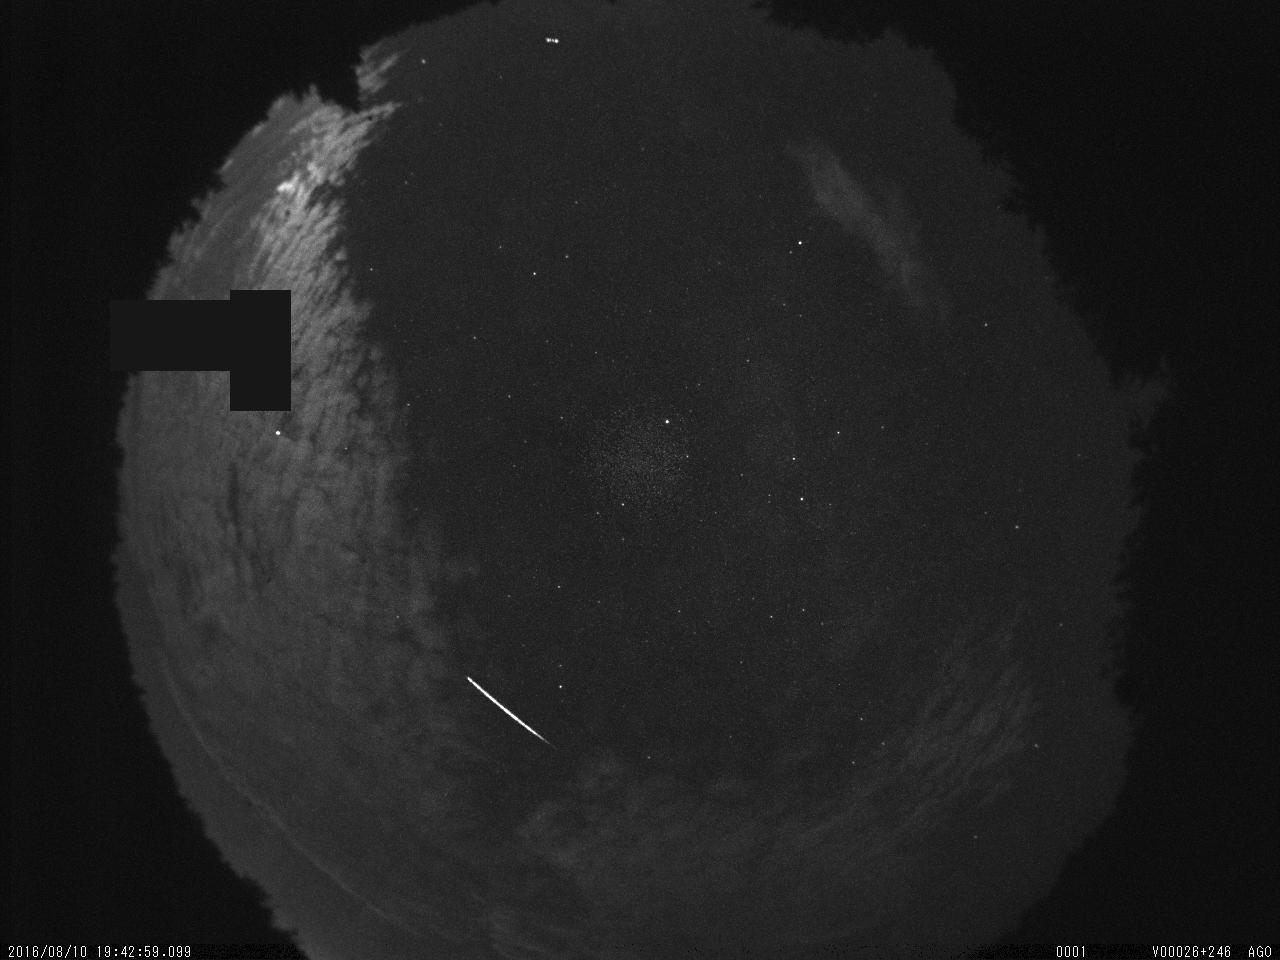meteor: (461, 662, 560, 758)
